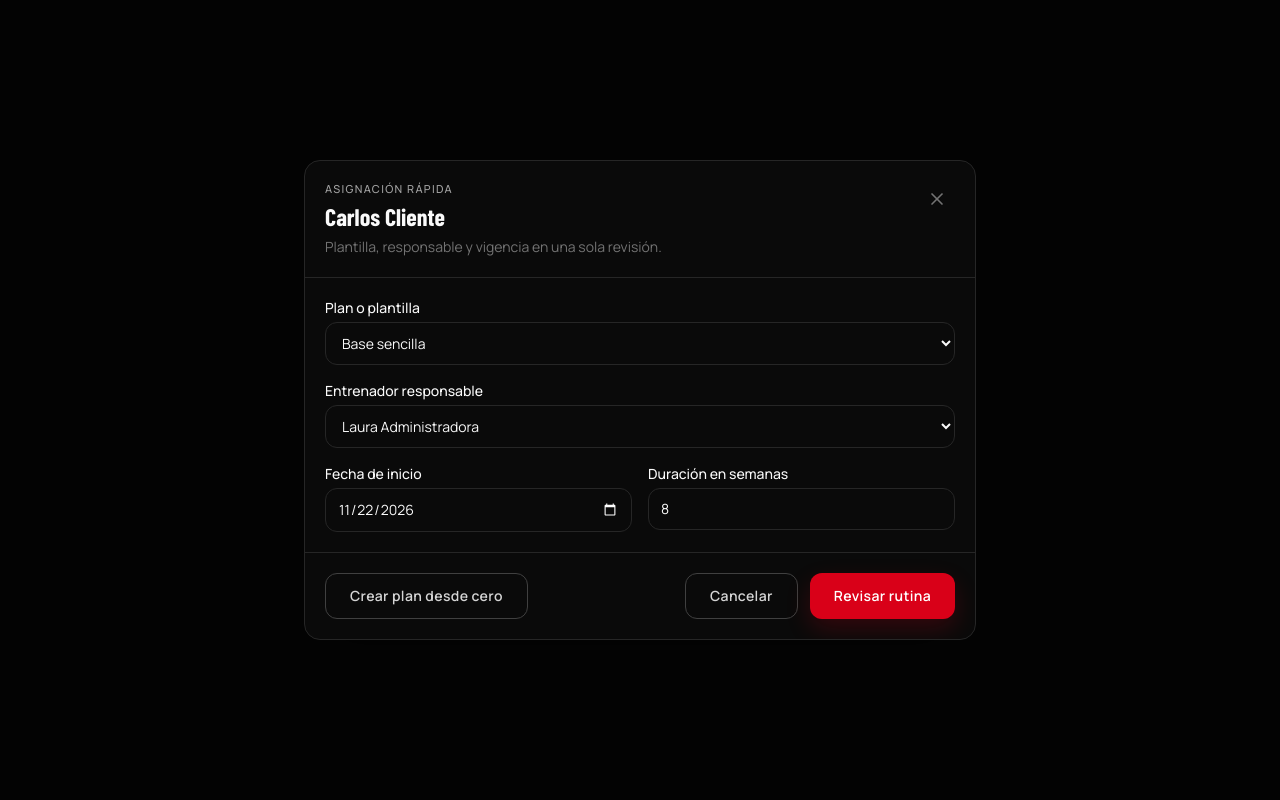
it: QuickRoutineAssignmentModal › previews and submits the selected template
Later steps or results of the test are not shown.
expect the dropdown with test id "quick-routine-template" shows "Base sencilla": met, box [325,322,955,365]
Step 1. Click the button "Revisar rutina" → (882, 596), box [810,573,955,619]
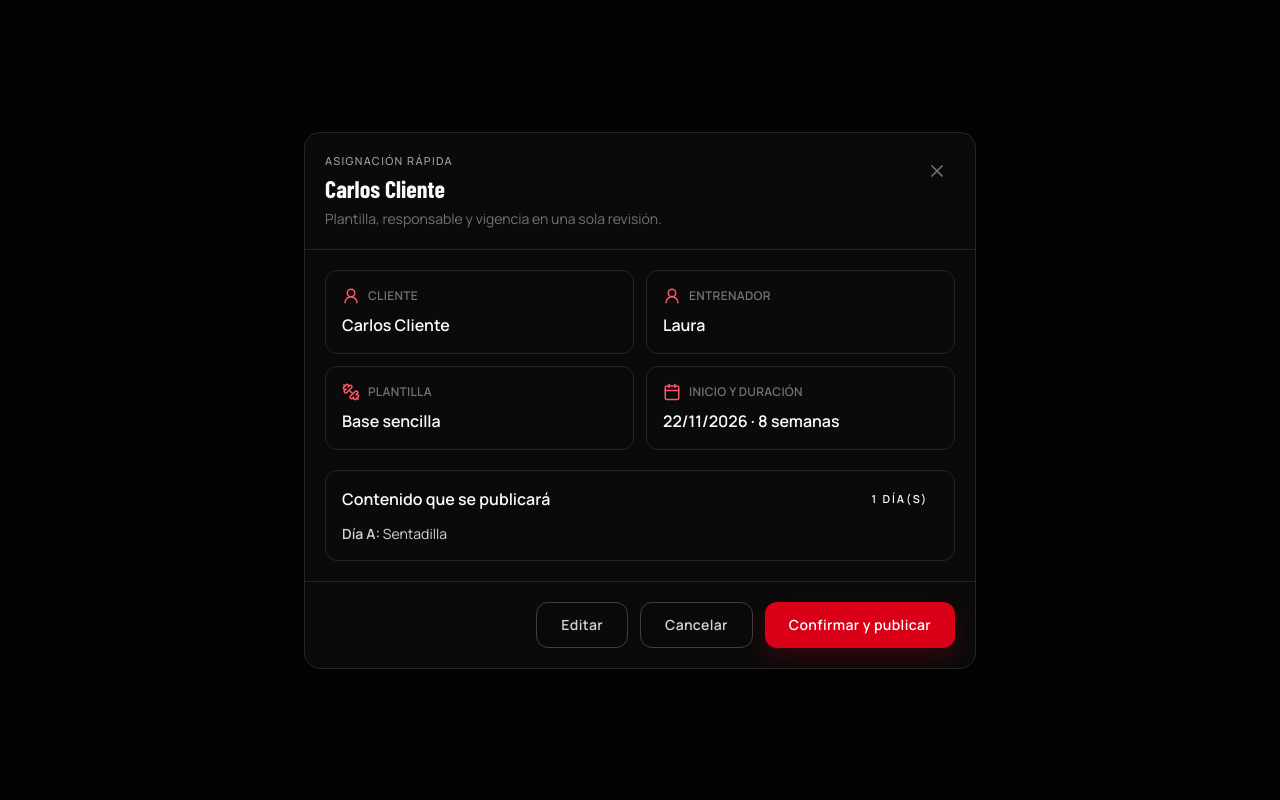
expect the element with test id "quick-routine-preview" shows "Base sencilla": met, box [342,410,441,432]
